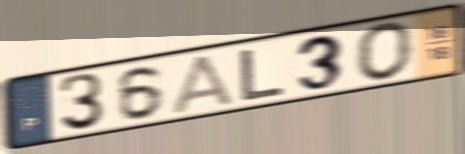3: (294, 31, 352, 94), (55, 71, 106, 132)
6: (116, 63, 166, 121)
A: (170, 52, 237, 116)
L: (239, 46, 288, 103)
O: (353, 19, 416, 84)
